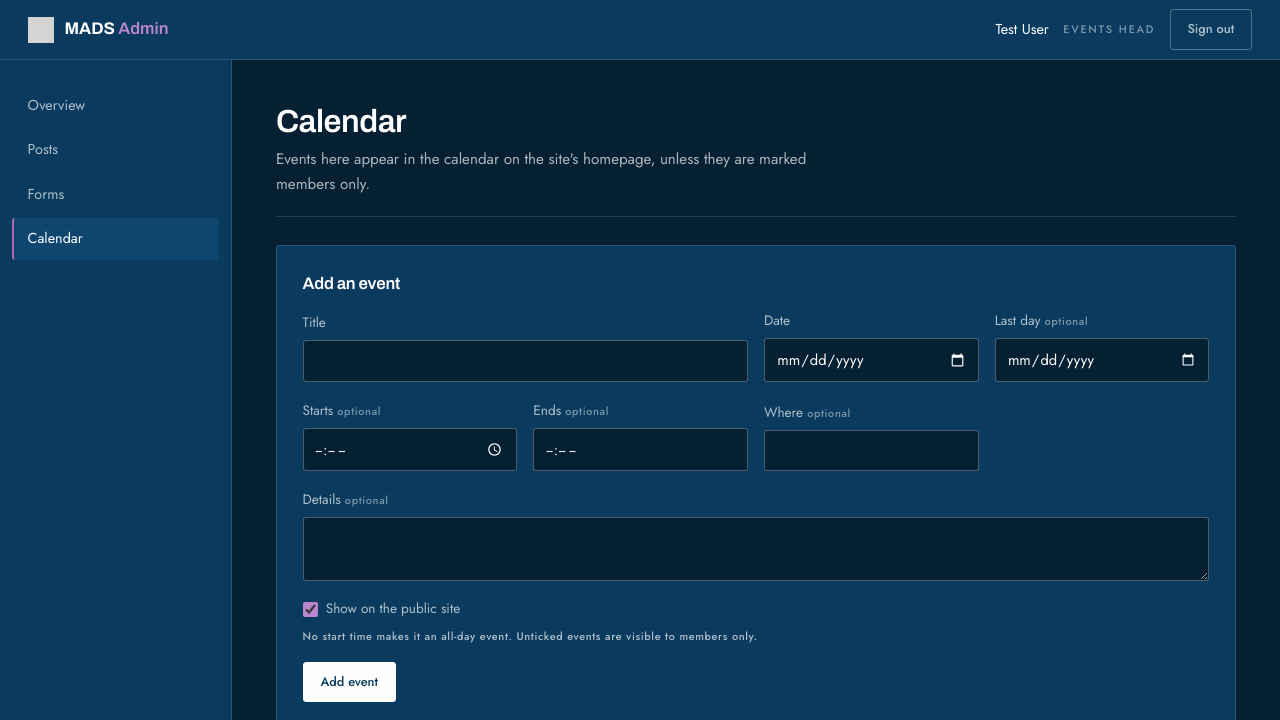
Test: Calendar › adds an event
Type "Study night" into the field labelled "Title" at (525, 361), box left=303, top=340, right=748, bottom=382
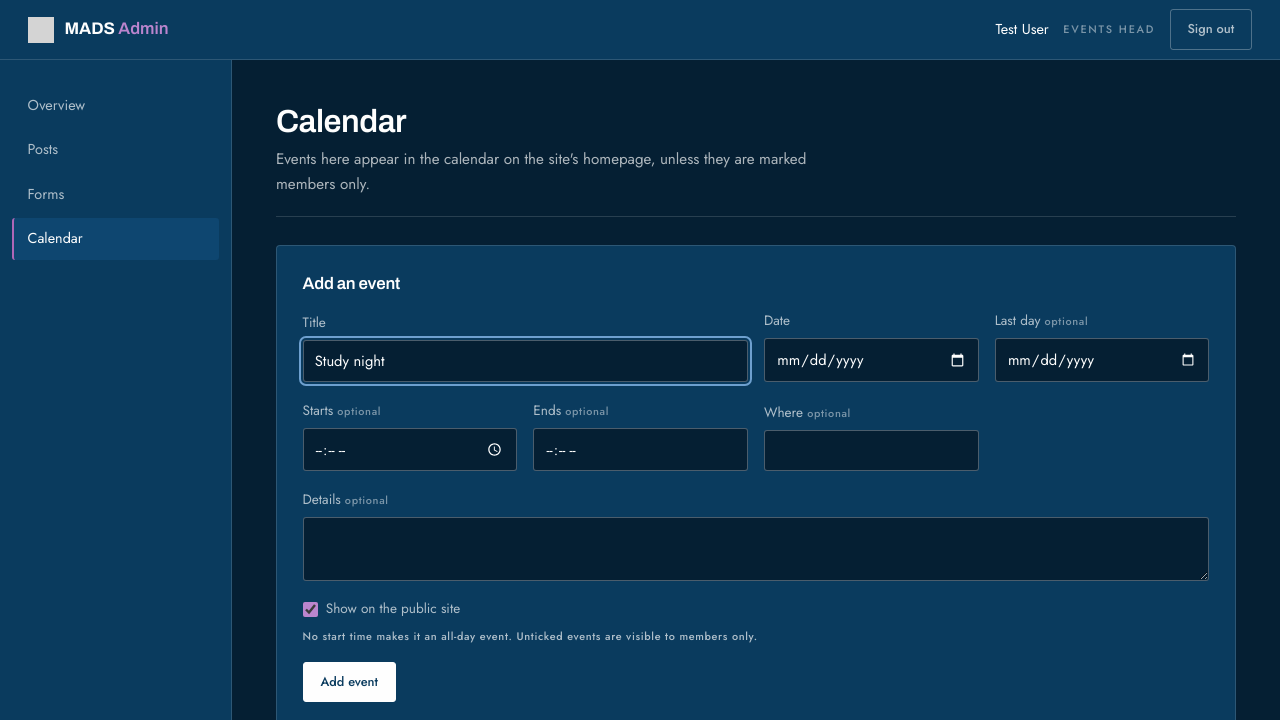
Type "2030-12-01" into the date field labelled "Date" at (871, 360), box left=764, top=338, right=979, bottom=382
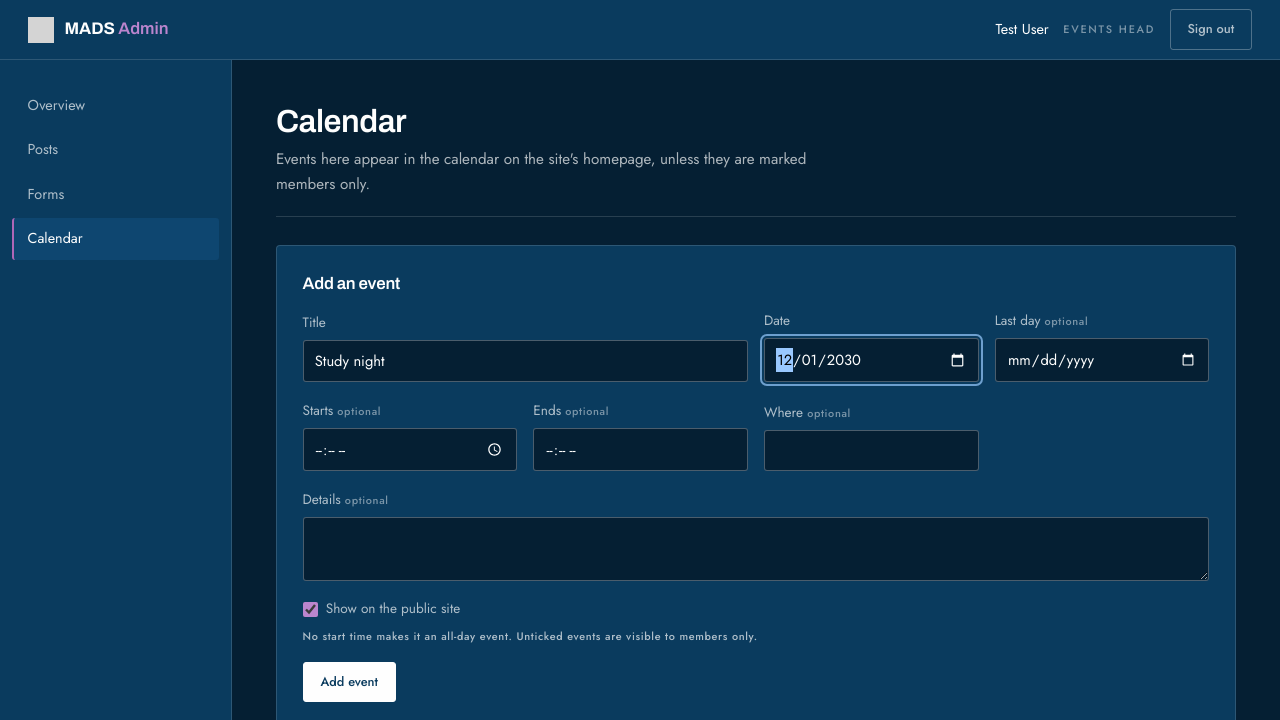
Type "18:00" into the time field labelled "Starts optional" at (410, 450), box left=303, top=428, right=517, bottom=471
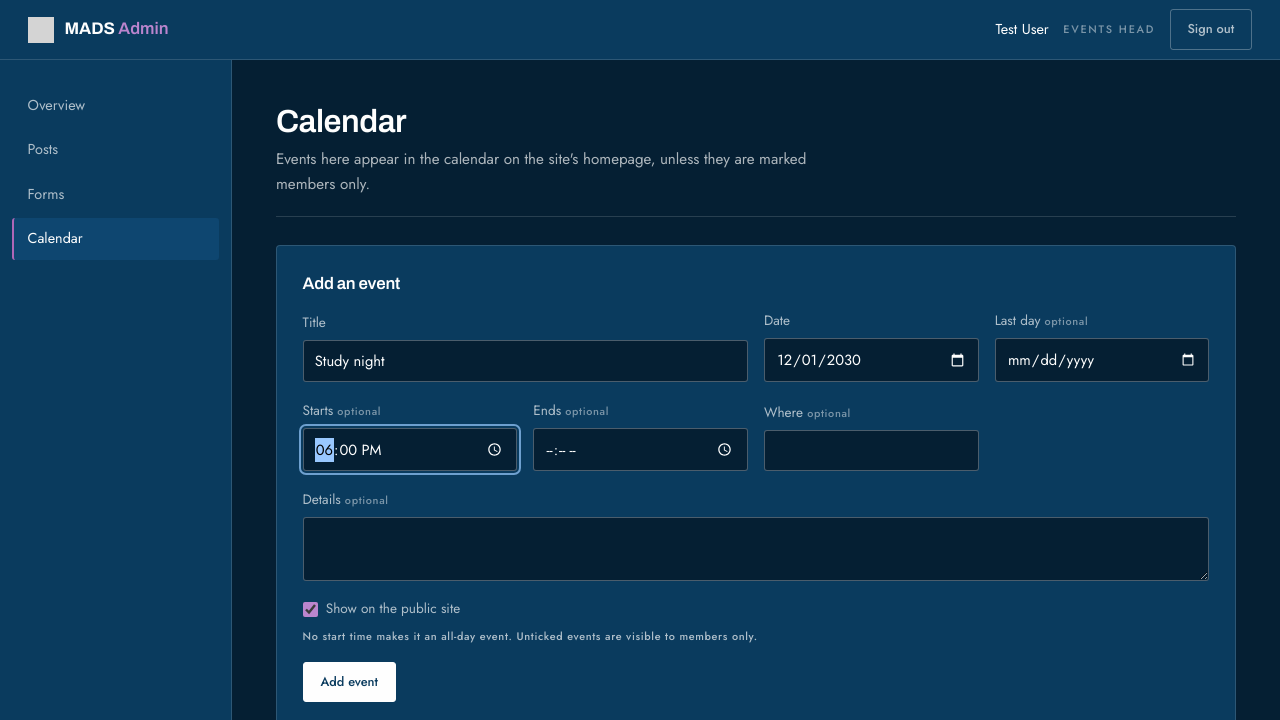
Click the button "Add event" at (349, 682), box left=303, top=662, right=396, bottom=702
(page scrolled)
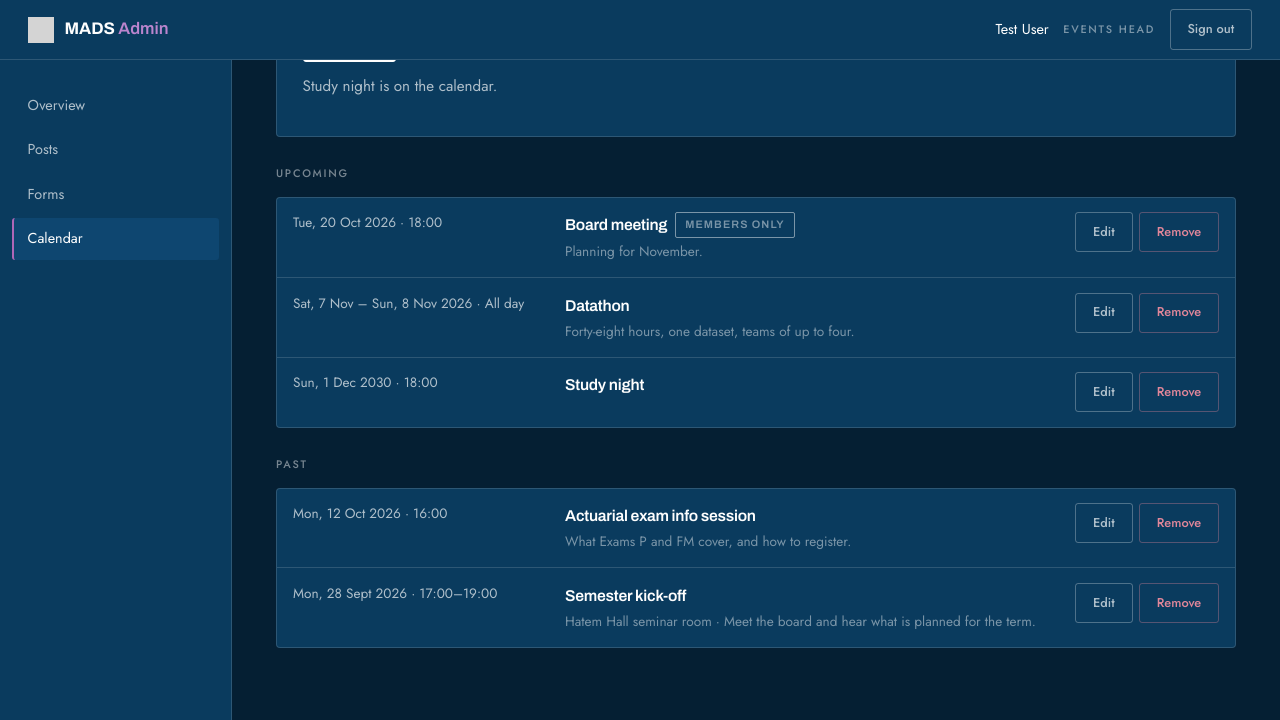
Now the message shows "Study night is on the calendar", box left=303, top=75, right=497, bottom=97
Now the heading "Study night" is shown, box left=565, top=376, right=644, bottom=393
